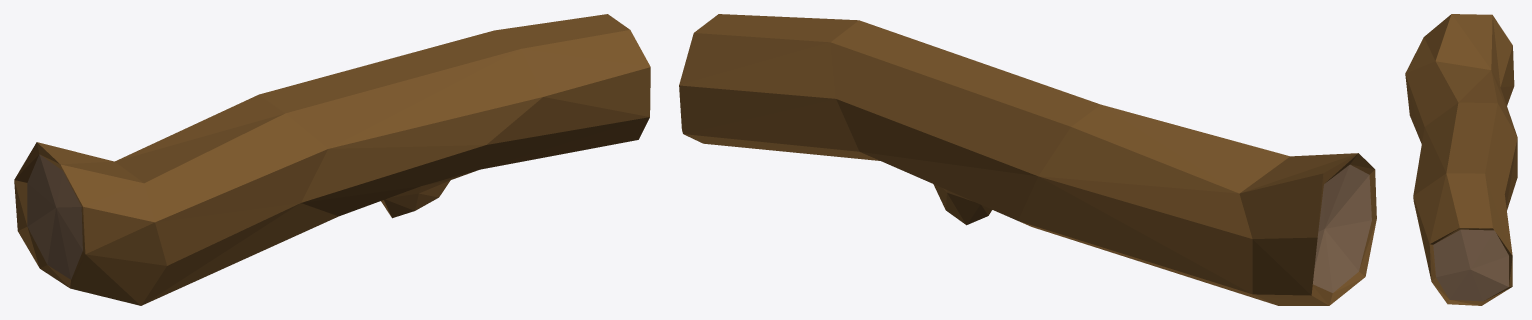
File: Log_forest.fbx
3 views of the same model, side by side, from view 1: azimuth 30°, elevation 25°; view 2: azimuth 150°, elevation 25°; view 3: azimuth 270°, elevation 25° (orthographic). The views are drawn at different scales.
Visible parts, largest first — view 1: Log; view 2: Log; view 3: Log.
Part boxes in pixels (x1,y1,x2,y2): Log: (14, 14, 650, 305); Log: (679, 14, 1376, 305); Log: (1405, 14, 1517, 305).
Bounding box in the file's own units: 303 × 76.37 × 69.06.
